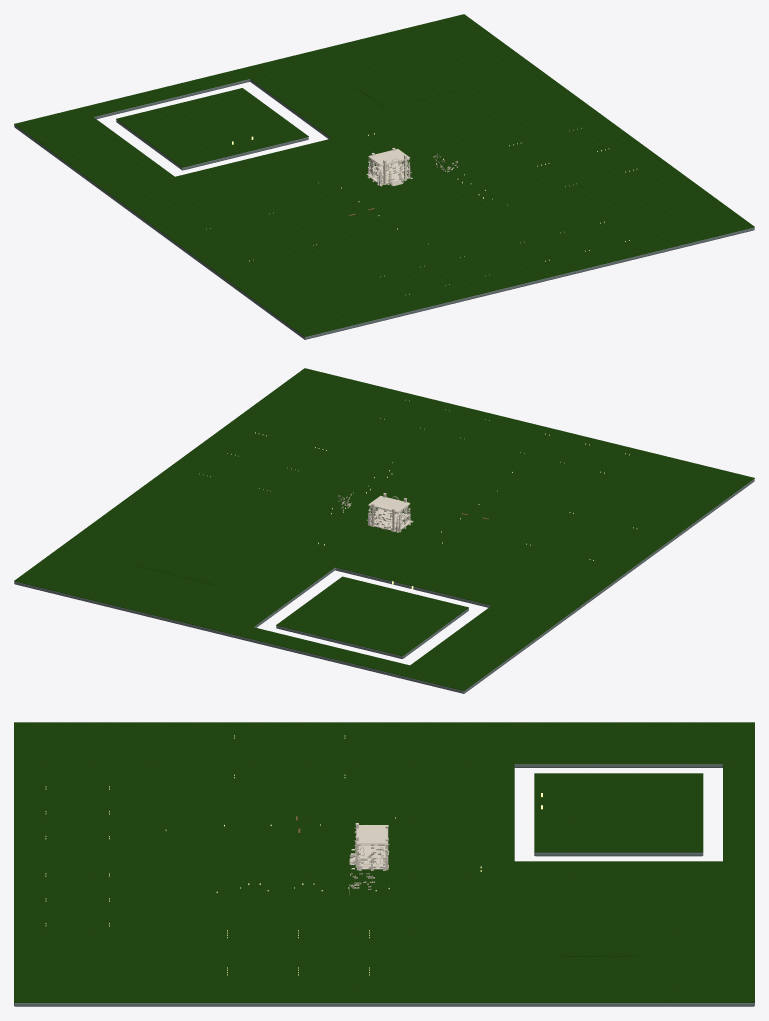
The model's file is Neris-05.glb.
3 views of the same model, one above another, from view 1: azimuth 30°, elevation 25°; view 2: azimuth 150°, elevation 25°; view 3: azimuth 270°, elevation 25° (orthographic). The views are drawn at different scales.
Parts seen in each view (by area): view 1: Town Grass, Town Foundation, Pale Carved Stone.001; view 2: Town Grass, Town Foundation, Pale Carved Stone.001; view 3: Town Grass, Town Foundation, Pale Carved Stone.001.
Part boxes in pixels (x1,y1,x2,y2): Town Grass: (14,14,754,336); Town Foundation: (14,79,754,339); Pale Carved Stone.001: (366,148,412,186); Town Grass: (14,368,754,690); Town Foundation: (14,479,754,693); Pale Carved Stone.001: (366,493,413,532); Town Grass: (14,722,754,1002); Town Foundation: (14,764,754,1006); Pale Carved Stone.001: (349,823,389,870).
Bounding box in the file's own units: 270 × 16.64 × 302.
Materials: 6 (1 with a texture image).
